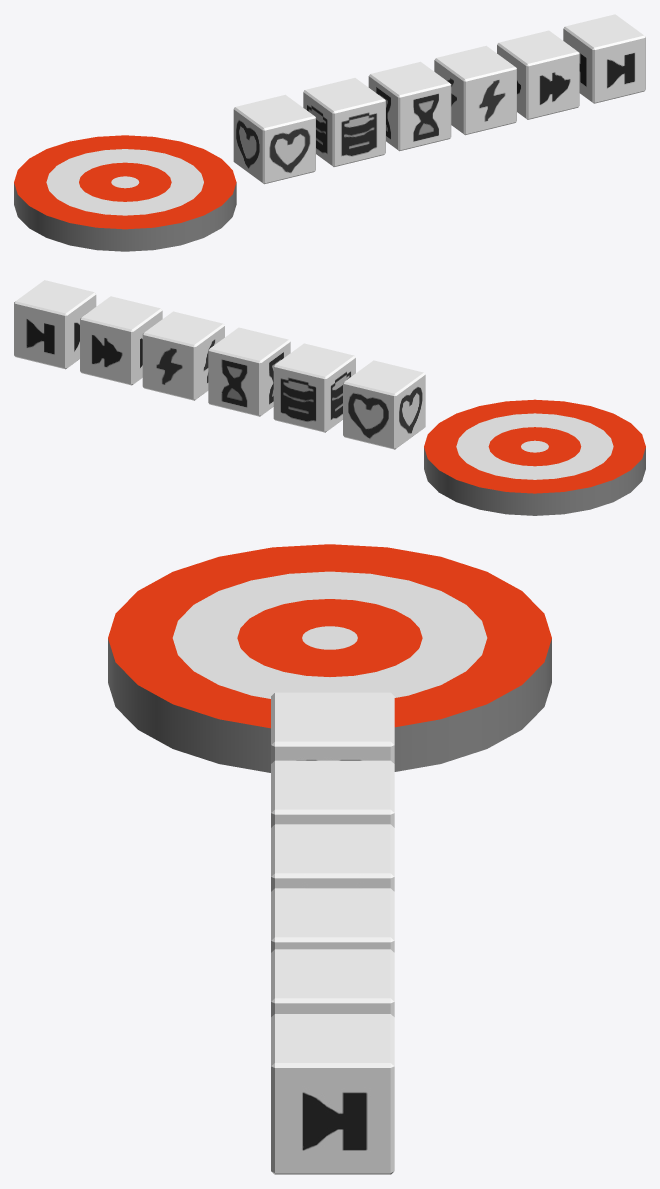
Rendered from bonus.FBX.
3 renders of one model, top to bottom at view 1: azimuth 30°, elevation 25°; view 2: azimuth 150°, elevation 25°; view 3: azimuth 270°, elevation 25°, orthographic. The views are drawn at different scales.
Parts seen in each view (by area): view 1: target, bonus_heal, bonus_fuel, bonus_slow_clock, bonus_time, bonus_shield, bonus_fast_clock; view 2: target, bonus_heal, bonus_fuel, bonus_shield, bonus_slow_clock, bonus_time, bonus_fast_clock; view 3: target, bonus_slow_clock, bonus_heal, bonus_fast_clock, bonus_time, bonus_fuel, bonus_shield.
Boxes of the visible parts, x1,y1,x2,y2 form: target: (14,135,236,251); bonus_heal: (233,94,315,184); bonus_fuel: (303,78,385,166); bonus_slow_clock: (563,14,645,103); bonus_time: (368,61,451,151); bonus_shield: (434,45,516,135); bonus_fast_clock: (497,30,579,119); target: (424,399,645,515); bonus_heal: (343,360,425,449); bonus_fuel: (273,343,355,432); bonus_shield: (142,311,224,400); bonus_slow_clock: (14,280,96,369); bonus_time: (208,327,290,416); bonus_fast_clock: (80,296,162,385); target: (108,544,551,772); bonus_slow_clock: (271,1014,394,1174); bonus_heal: (271,692,394,763); bonus_fast_clock: (271,949,394,1016); bonus_time: (271,824,394,891); bonus_fuel: (271,760,394,827); bonus_shield: (271,888,394,952).
Bounding box in the file's own units: 11.27 × 1 × 3.6.
Materials: 9 (6 with a texture image).
